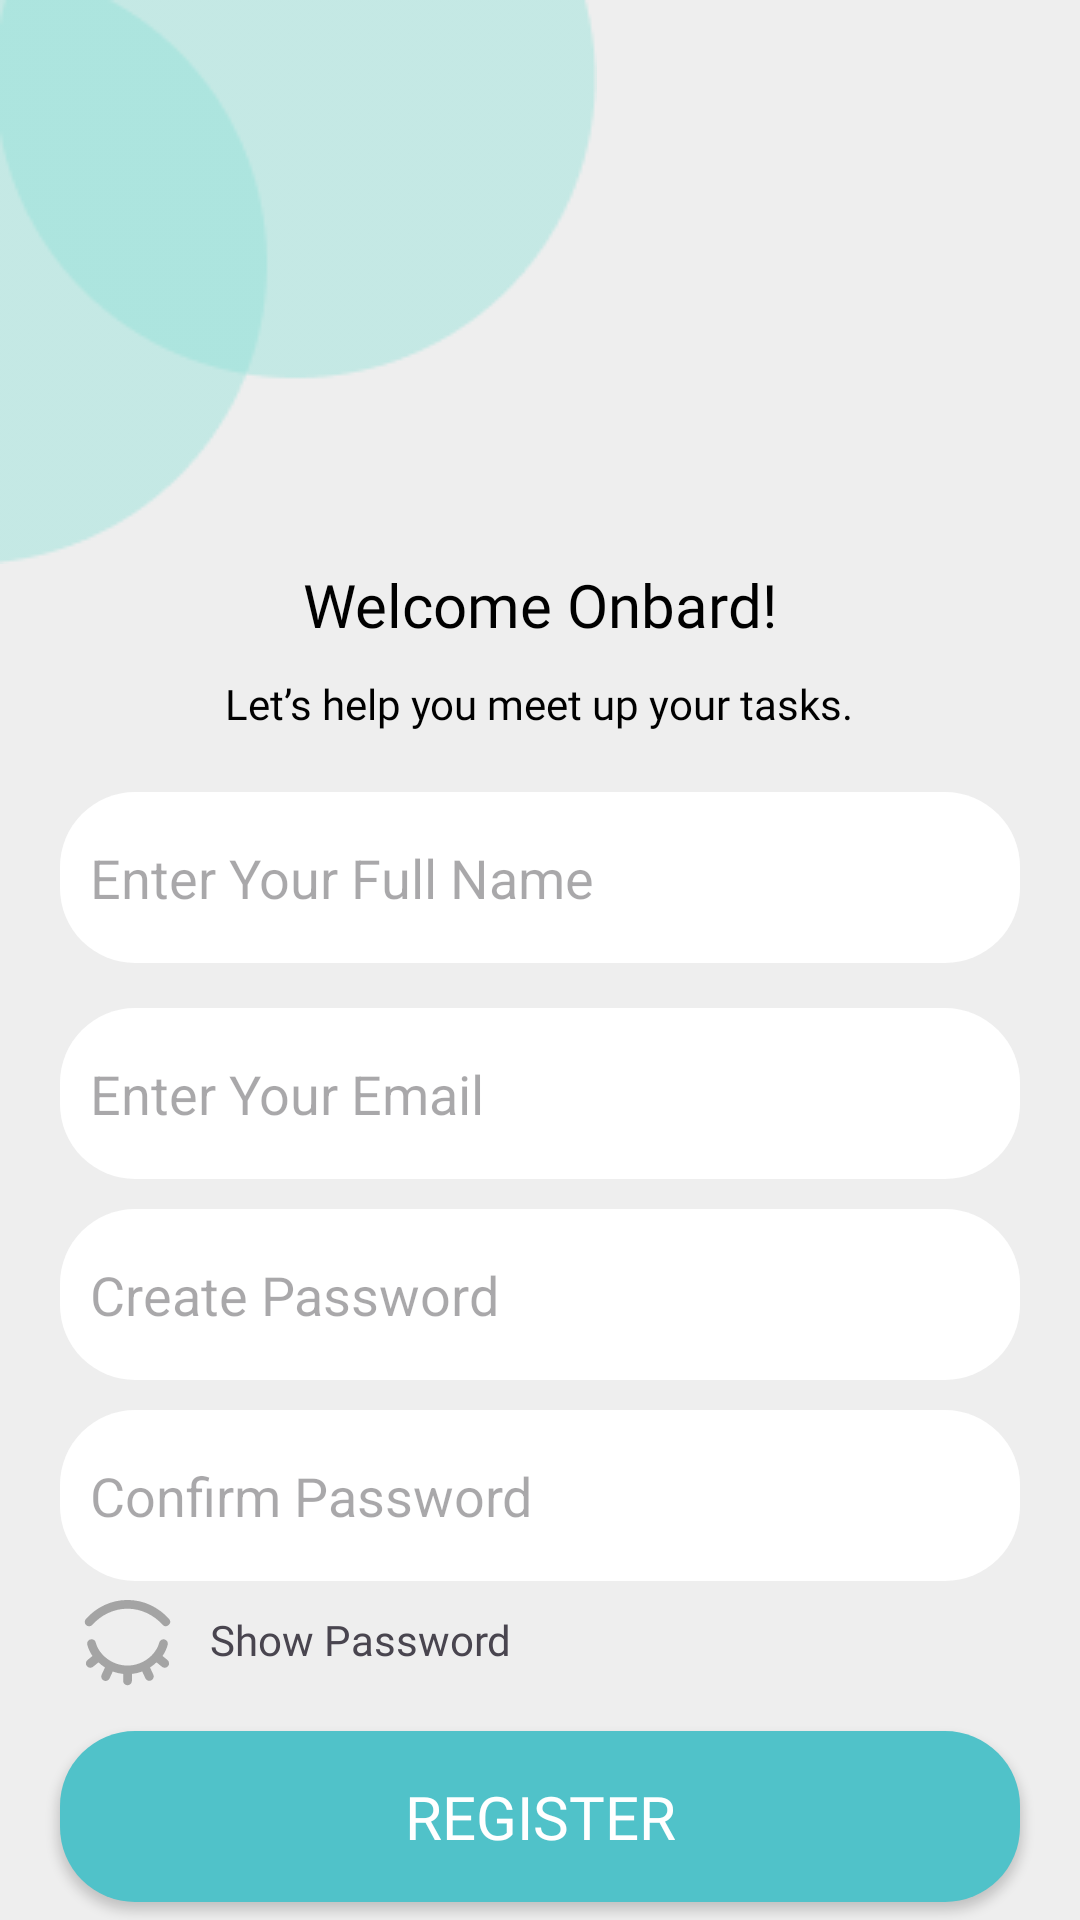

Where icons sit on this 1080w x 1920h app screen, as (x1, y1, x2, y2):
closed eye: (85, 1600, 170, 1685)
